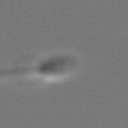abnormal: (1, 49, 40, 93)
